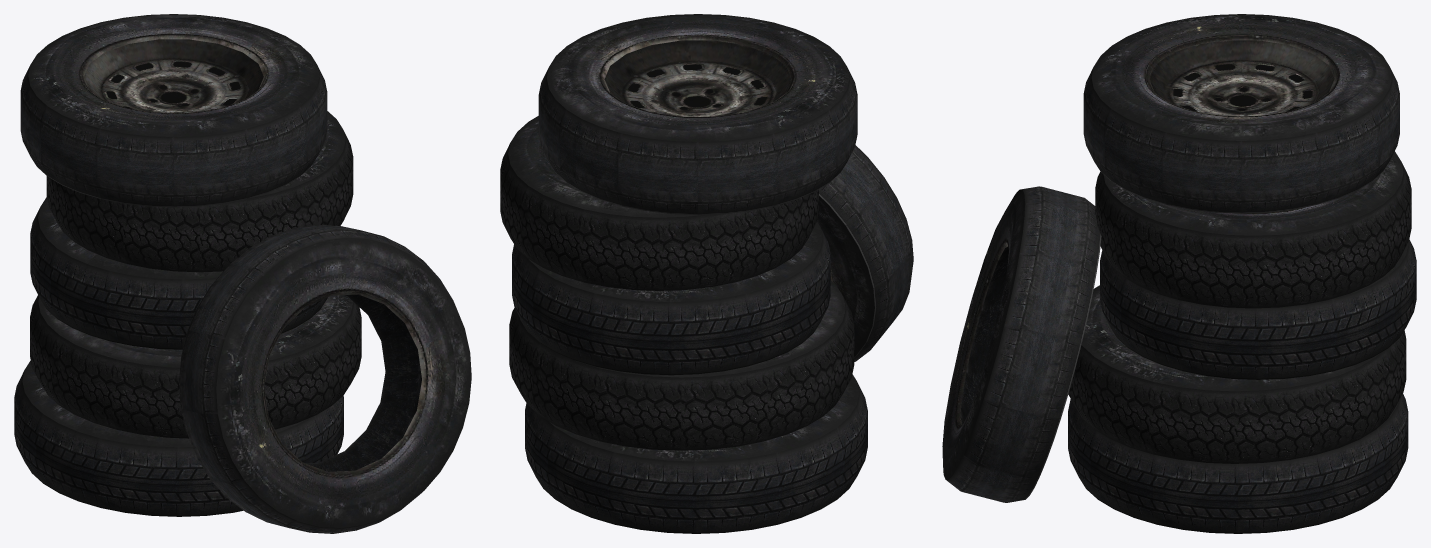
File: tire.fbx
The picture shows the model from 3 angles, left to right: view 1: azimuth 30°, elevation 25°; view 2: azimuth 150°, elevation 25°; view 3: azimuth 270°, elevation 25°; orthographic projection. The views are drawn at different scales.
Visible parts, largest first — view 1: Mesh_0081; view 2: Mesh_0081; view 3: Mesh_0081.
Part boxes in pixels (box(x1,y1,x2,y2)): Mesh_0081: box(14, 14, 471, 533); Mesh_0081: box(500, 14, 913, 533); Mesh_0081: box(942, 14, 1416, 533).
Size of the model in its own units: 250 by 287 by 313.
1 material, 1 textured.
